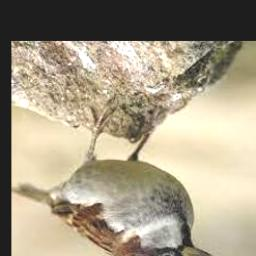Sparrow: (11, 105, 214, 256)
